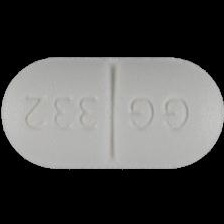64725-5181: (0, 0, 224, 224)
